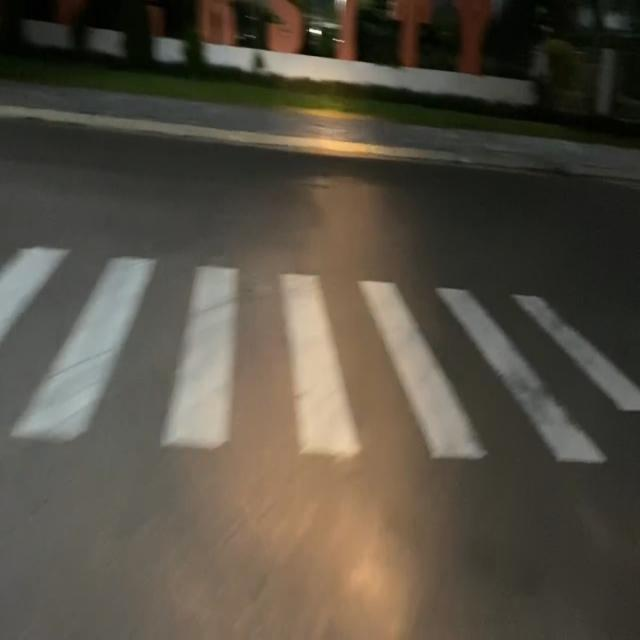walk-crossing: (0, 238, 640, 462)
